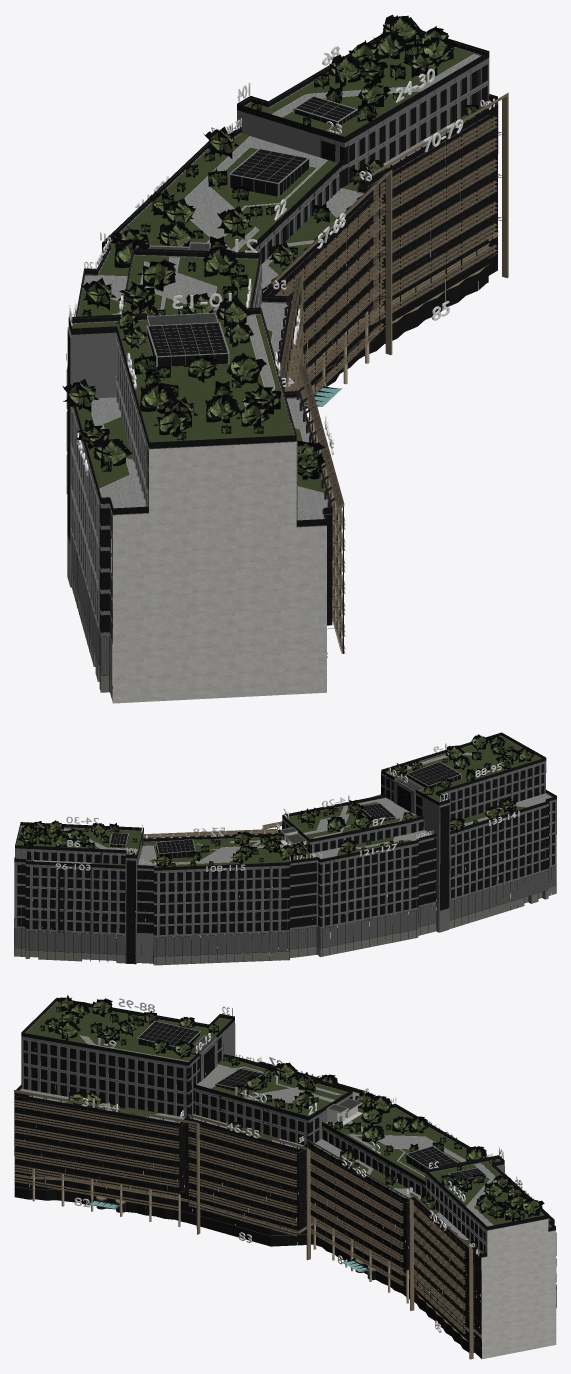
File: 11-21CanalReach.glb
3 renders of one model, top to bottom at view 1: azimuth 30°, elevation 25°; view 2: azimuth 150°, elevation 25°; view 3: azimuth 270°, elevation 25°, orthographic. The views are drawn at different scales.
Parts seen in each view (by area): view 1: 11_22_Canal_Reach, Drop85, Drop75, Drop78, Drop74, Drop73, Drop77, Drop76, Drop81, Drop140, Drop84, Drop64 (+6 smaller); view 2: 11_22_Canal_Reach, Drop104, Drop132, Drop115, Drop127, Drop139, Drop112, Drop109, Drop103, Drop110, Drop87, Drop100 (+28 smaller); view 3: 11_22_Canal_Reach, Drop82, Drop83, Drop84, Drop31, Drop85, Drop34, Drop53, Drop51, Drop54, Drop52, Drop50 (+35 smaller).
Part boxes in pixels (left/top/right/bottom): 11_22_Canal_Reach: left=62, top=14, right=508, bottom=703; Drop85: left=359, top=249, right=488, bottom=358; Drop75: left=425, top=144, right=440, bottom=280; Drop78: left=471, top=117, right=486, bottom=253; Drop74: left=410, top=153, right=424, bottom=289; Drop73: left=394, top=162, right=409, bottom=298; Drop77: left=455, top=126, right=470, bottom=262; Drop76: left=440, top=135, right=455, bottom=271; Drop81: left=488, top=104, right=497, bottom=275; Drop140: left=101, top=508, right=109, bottom=632; Drop84: left=305, top=327, right=358, bottom=409; Drop64: left=314, top=229, right=339, bottom=362; 11_22_Canal_Reach: left=14, top=732, right=556, bottom=965; Drop104: left=126, top=860, right=135, bottom=963; Drop132: left=440, top=805, right=449, bottom=910; Drop115: left=272, top=867, right=290, bottom=930; Drop127: left=403, top=845, right=418, bottom=910; Drop139: left=533, top=806, right=548, bottom=872; Drop112: left=220, top=870, right=235, bottom=932; Drop109: left=168, top=872, right=182, bottom=934; Drop103: left=111, top=870, right=125, bottom=933; Drop110: left=186, top=871, right=200, bottom=933; Drop87: left=310, top=821, right=423, bottom=853; Drop100: left=58, top=868, right=73, bottom=930; 11_22_Canal_Reach: left=14, top=995, right=556, bottom=1359; Drop82: left=29, top=1179, right=186, bottom=1222; Drop83: left=186, top=1202, right=313, bottom=1246; Drop84: left=316, top=1225, right=414, bottom=1301; Drop31: left=14, top=1096, right=29, bottom=1199; Drop85: left=414, top=1282, right=469, bottom=1352; Drop34: left=31, top=1101, right=50, bottom=1176; Drop53: left=270, top=1145, right=283, bottom=1226; Drop51: left=244, top=1138, right=257, bottom=1219; Drop54: left=283, top=1149, right=296, bottom=1230; Drop52: left=257, top=1141, right=270, bottom=1222; Drop50: left=231, top=1134, right=244, bottom=1215.
Bounding box in the file's own units: 476 × 175 × 507.
17 materials, 11 textured.
